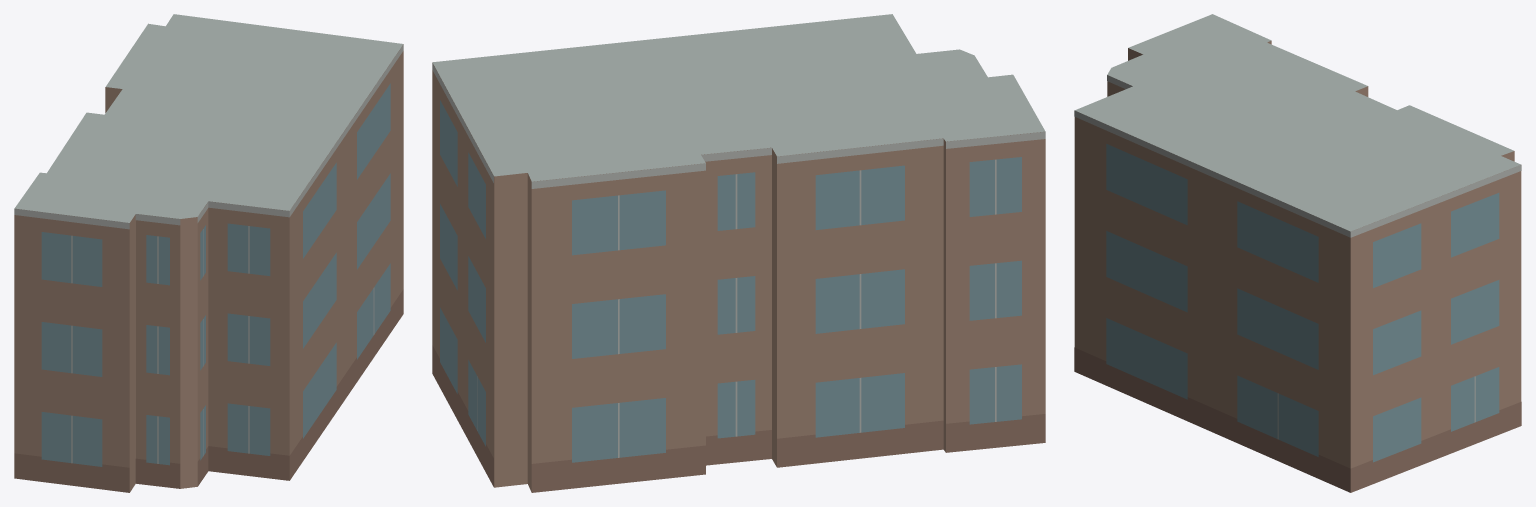
Rendered from survey-upis-32966877.glb.
3 views of the same model, side by side, from view 1: azimuth 30°, elevation 25°; view 2: azimuth 150°, elevation 25°; view 3: azimuth 270°, elevation 25° (orthographic). The views are drawn at different scales.
Parts seen in each view (by area): view 1: survey-upis-32966877.tmp; view 2: survey-upis-32966877.tmp; view 3: survey-upis-32966877.tmp.
Boxes of the visible parts, x1,y1,x2,y2 form: survey-upis-32966877.tmp: (14, 14, 403, 492); survey-upis-32966877.tmp: (432, 14, 1045, 492); survey-upis-32966877.tmp: (1074, 14, 1521, 492).
Size of the model in its own units: 18.29 by 10.24 by 15.88.
